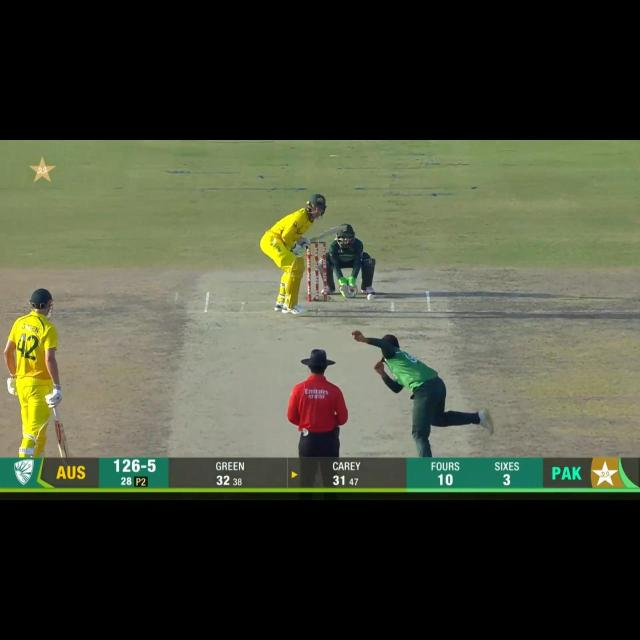bat: (307, 224, 348, 244), (52, 418, 72, 458)
toe: (335, 224, 347, 233)
